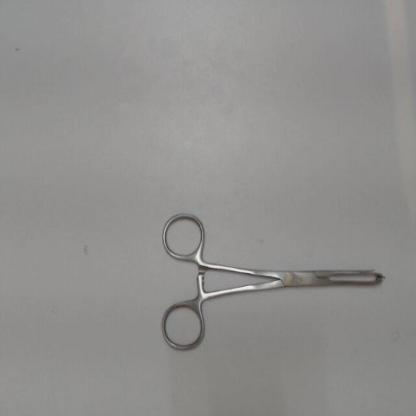Allis Tissue Forceps: (152, 203, 393, 358)
